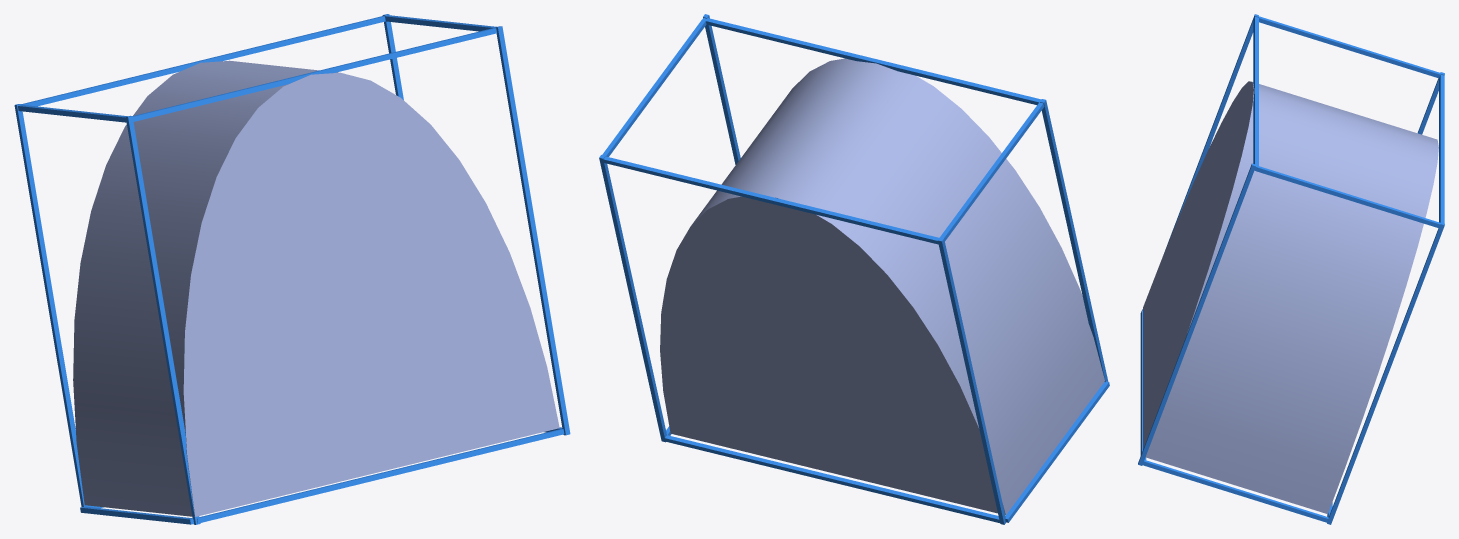
3 views of the same model, side by side, from view 1: azimuth 30°, elevation 25°; view 2: azimuth 150°, elevation 25°; view 3: azimuth 270°, elevation 25° (orthographic). The views are drawn at different scales.
Visible parts, largest first — view 1: chest, box; view 2: chest, box; view 3: chest, box.
Part boxes in pixels (bbox=[...]): chest: bbox=[73, 60, 559, 516]; box: bbox=[14, 14, 570, 524]; chest: bbox=[660, 58, 1104, 515]; box: bbox=[599, 14, 1109, 524]; chest: bbox=[1143, 81, 1438, 514]; box: bbox=[1138, 14, 1444, 524].
Size of the model in its own units: 0.0105 by 0.0115 by 0.00888.
